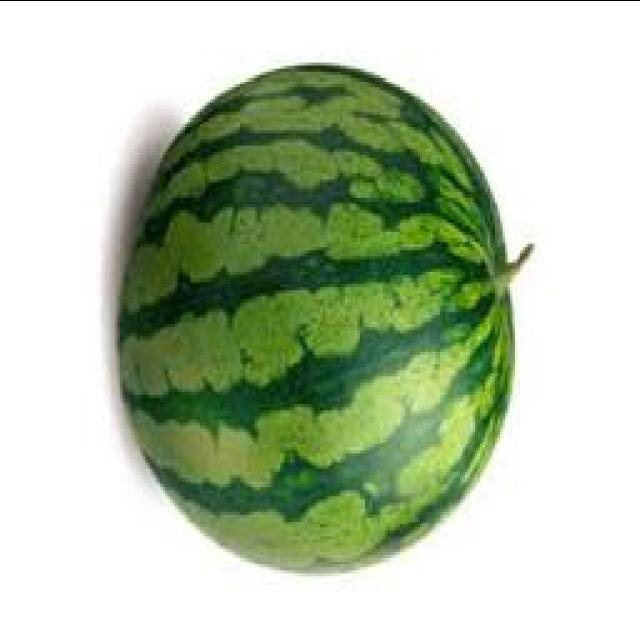watermelon: (118, 65, 513, 580)
